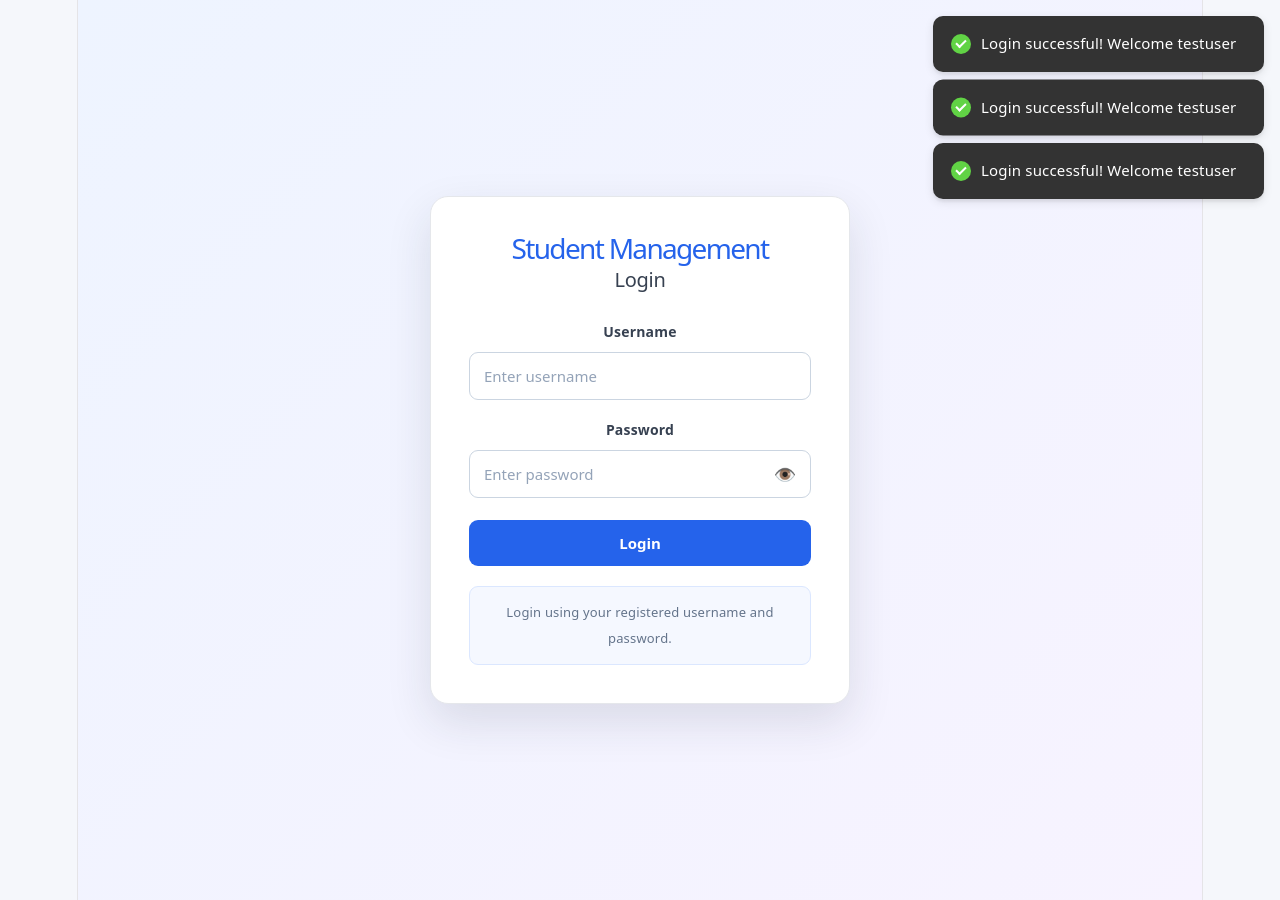
Test: provides the supported roles in the user creation form
The width and height of the screenshot is (1280, 900).
In the field labelled "Username": (640, 376) top-left (469, 352), bottom-right (811, 400), type "testuser"
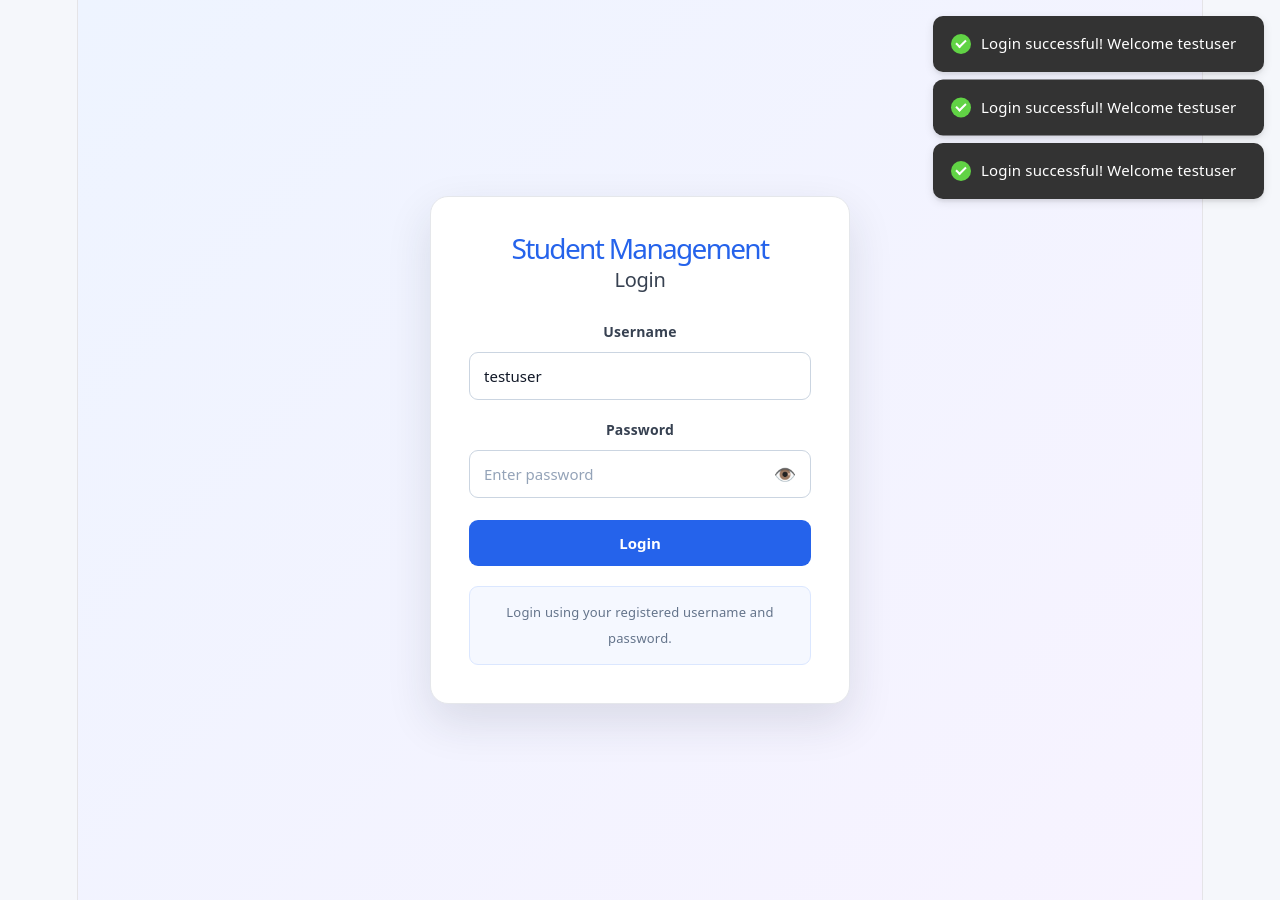
In the password field labelled "Password": (640, 474) top-left (469, 450), bottom-right (811, 498), type "correctpassword"
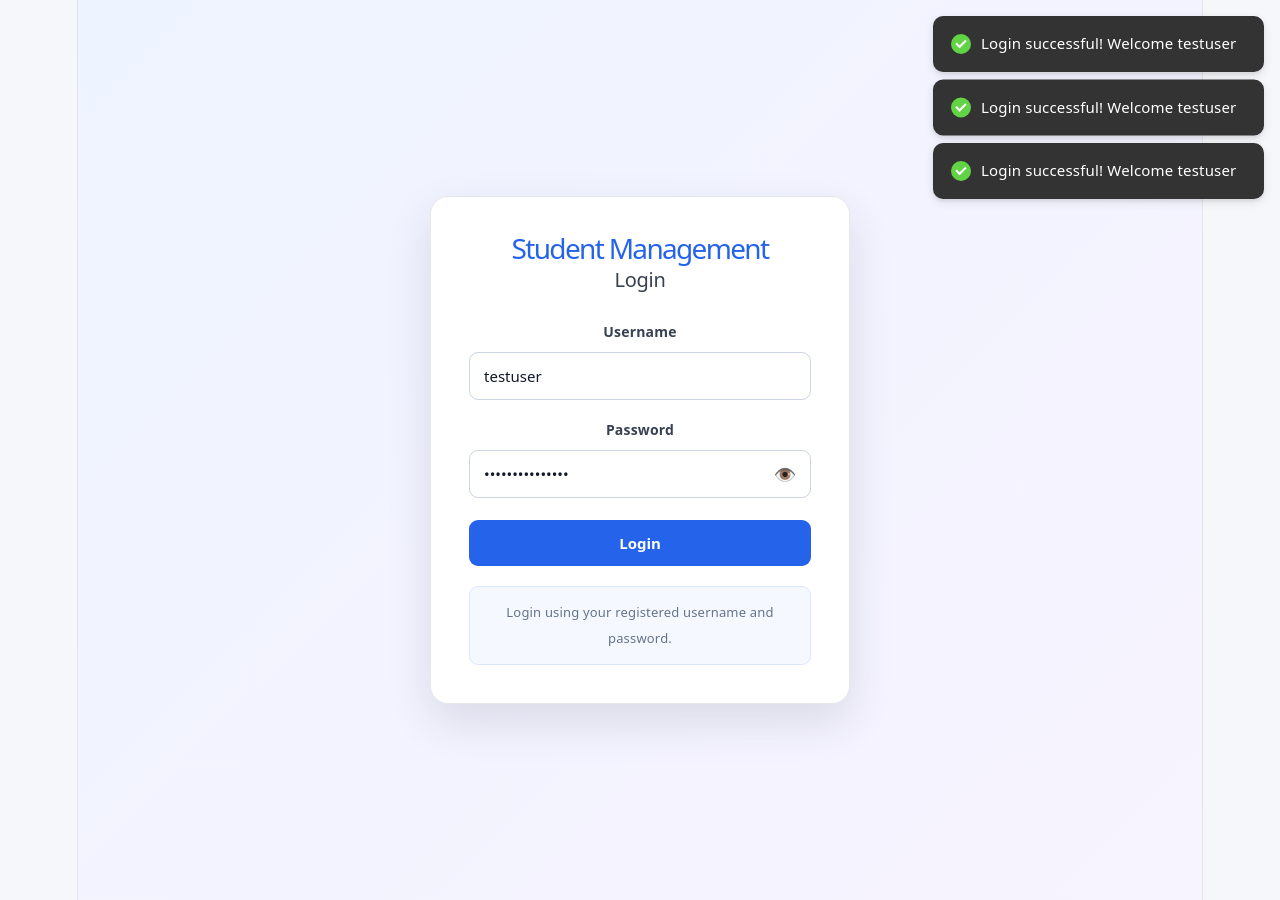
Click the button "Login": click(640, 543) top-left (469, 520), bottom-right (811, 566)
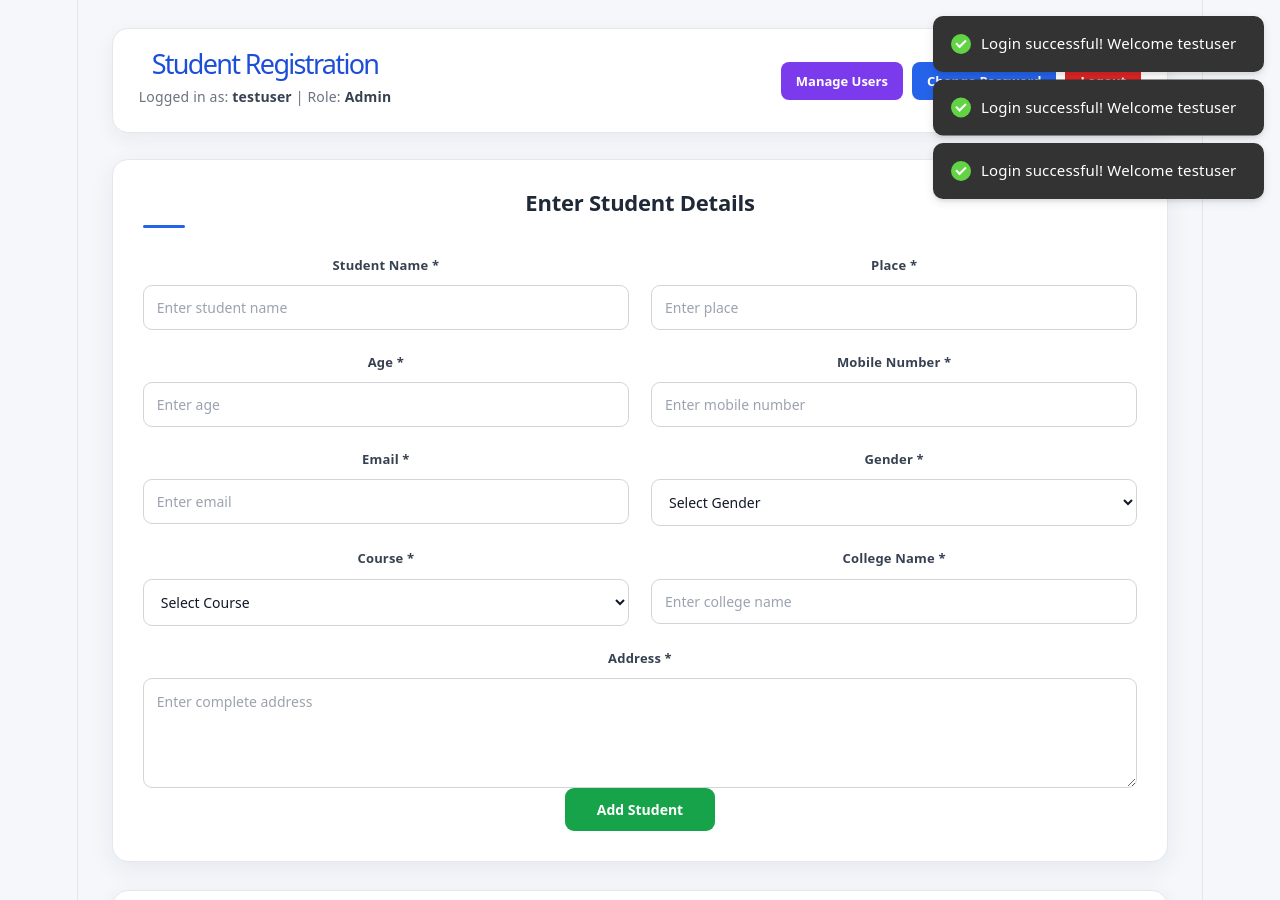
Check: the heading "Student Registration" is shown, box top-left (139, 51), bottom-right (391, 77)
Click the button "Manage Users": click(842, 81) top-left (781, 62), bottom-right (903, 100)
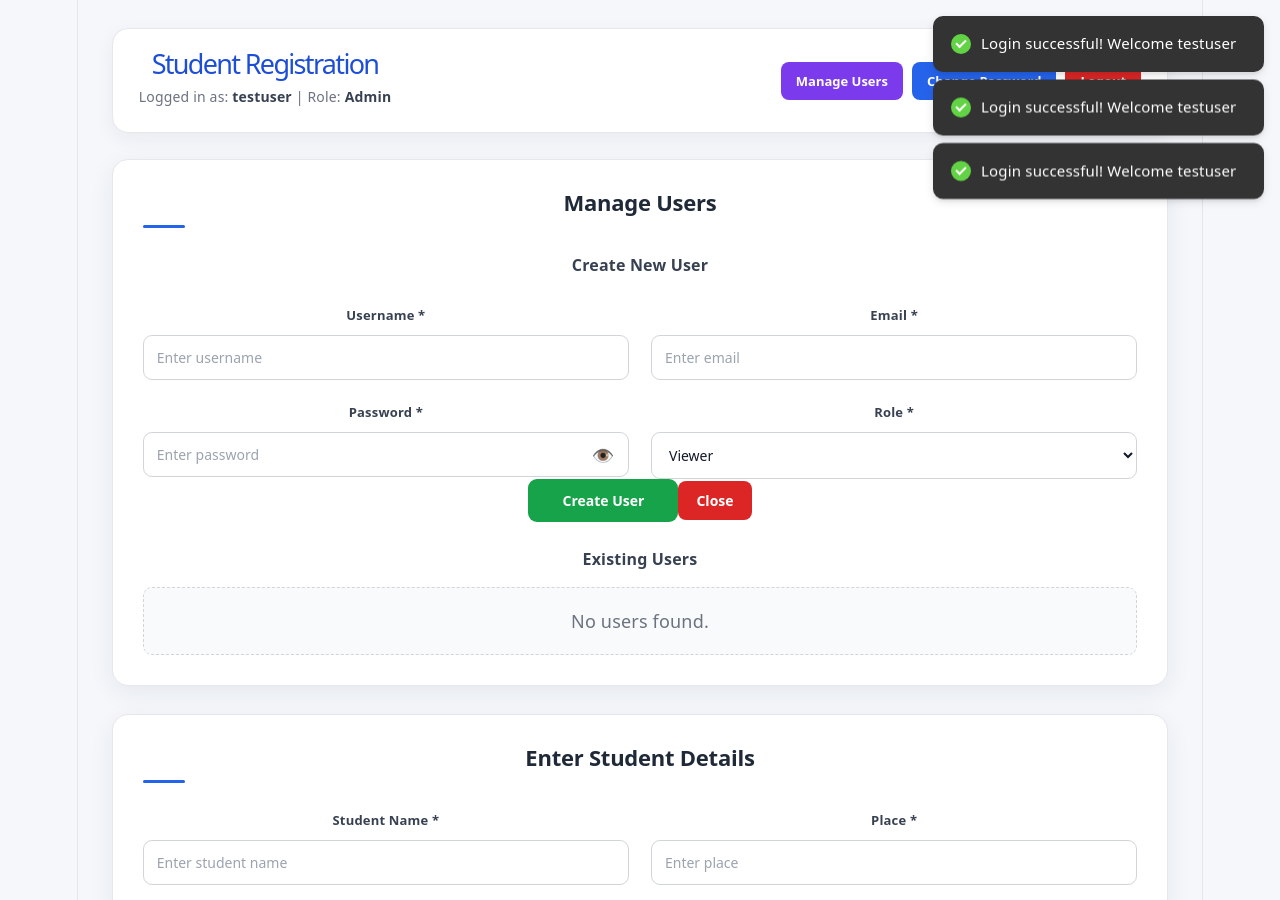
Check: the dropdown labelled "Role *" shows "Viewer", box top-left (651, 432), bottom-right (1137, 479)
